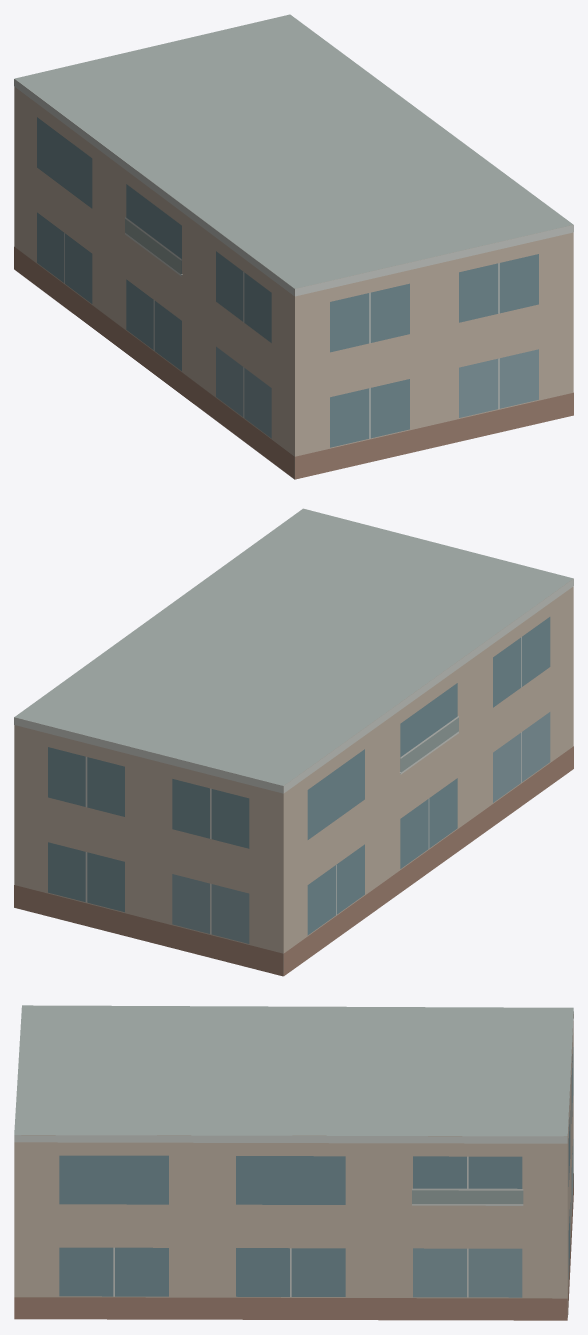
File: survey-upis-32660208.glb
The picture shows the model from 3 angles, top to bottom: view 1: azimuth 30°, elevation 25°; view 2: azimuth 150°, elevation 25°; view 3: azimuth 270°, elevation 25°; orthographic projection. The views are drawn at different scales.
Visible parts, largest first — view 1: survey-upis-32660208.tmp; view 2: survey-upis-32660208.tmp; view 3: survey-upis-32660208.tmp.
Boxes of the visible parts, x1,y1,x2,y2 form: survey-upis-32660208.tmp: (14, 14, 573, 479); survey-upis-32660208.tmp: (14, 508, 573, 976); survey-upis-32660208.tmp: (14, 1005, 573, 1320).
Bounding box in the file's own units: 9.34 × 6.1 × 16.81.
